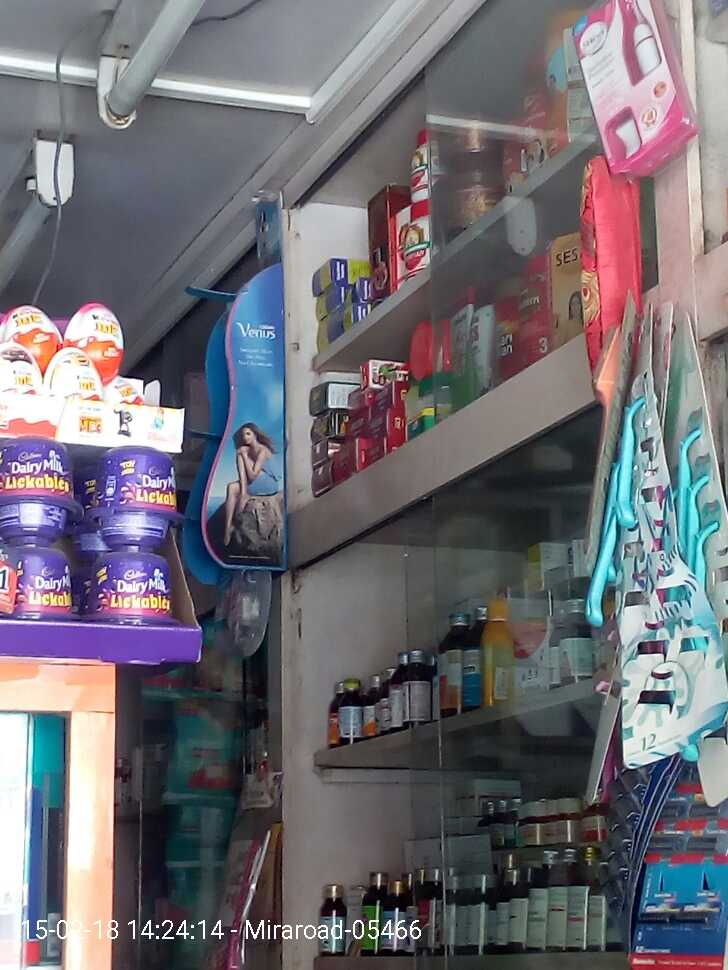reject: (296, 389, 437, 630)
